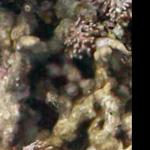alive: (3, 3, 130, 148)
